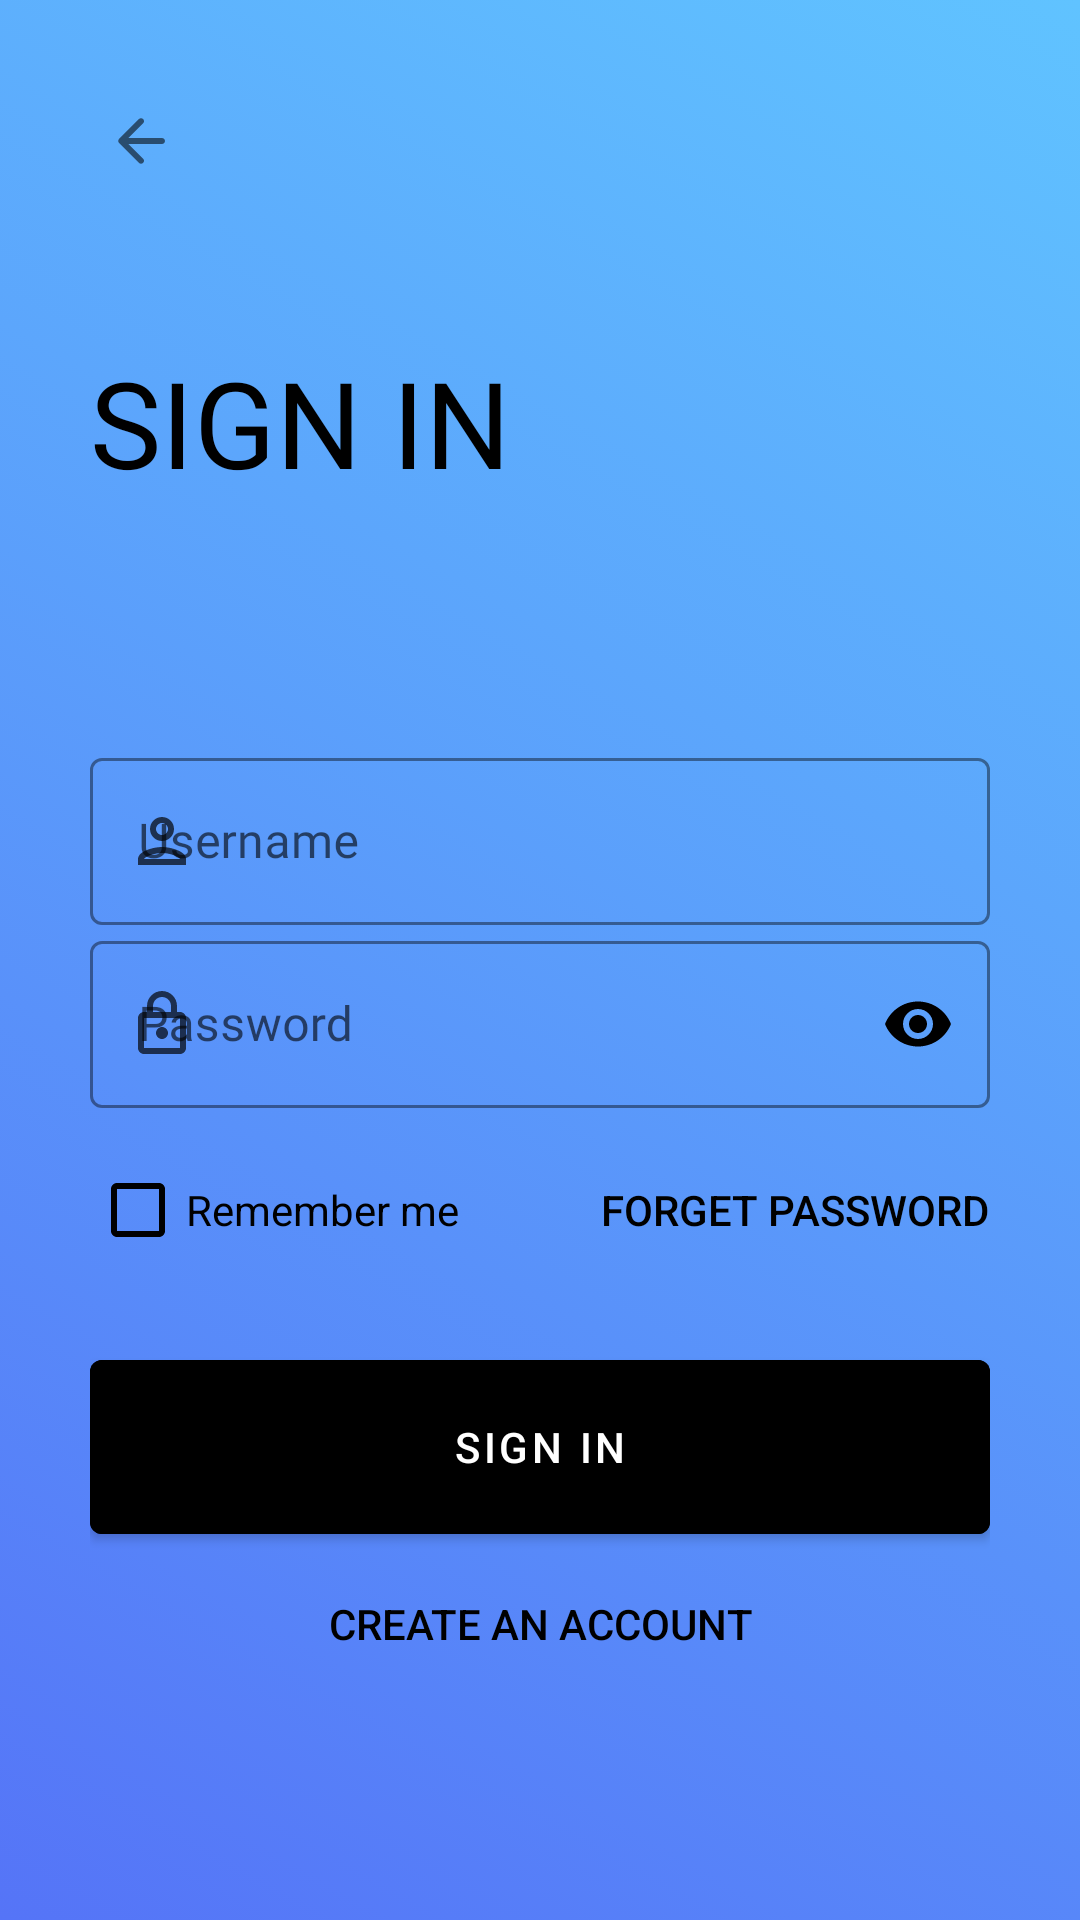

Point at icon controls on the screen. Image size 1080×1920, points as point (x, y).
back: point (141, 141)
